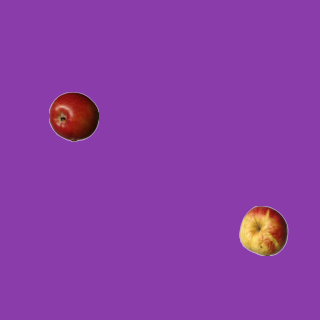Apple Braeburn: (48, 91, 98, 141)
Apple Red Yellow 1: (238, 205, 288, 255)
